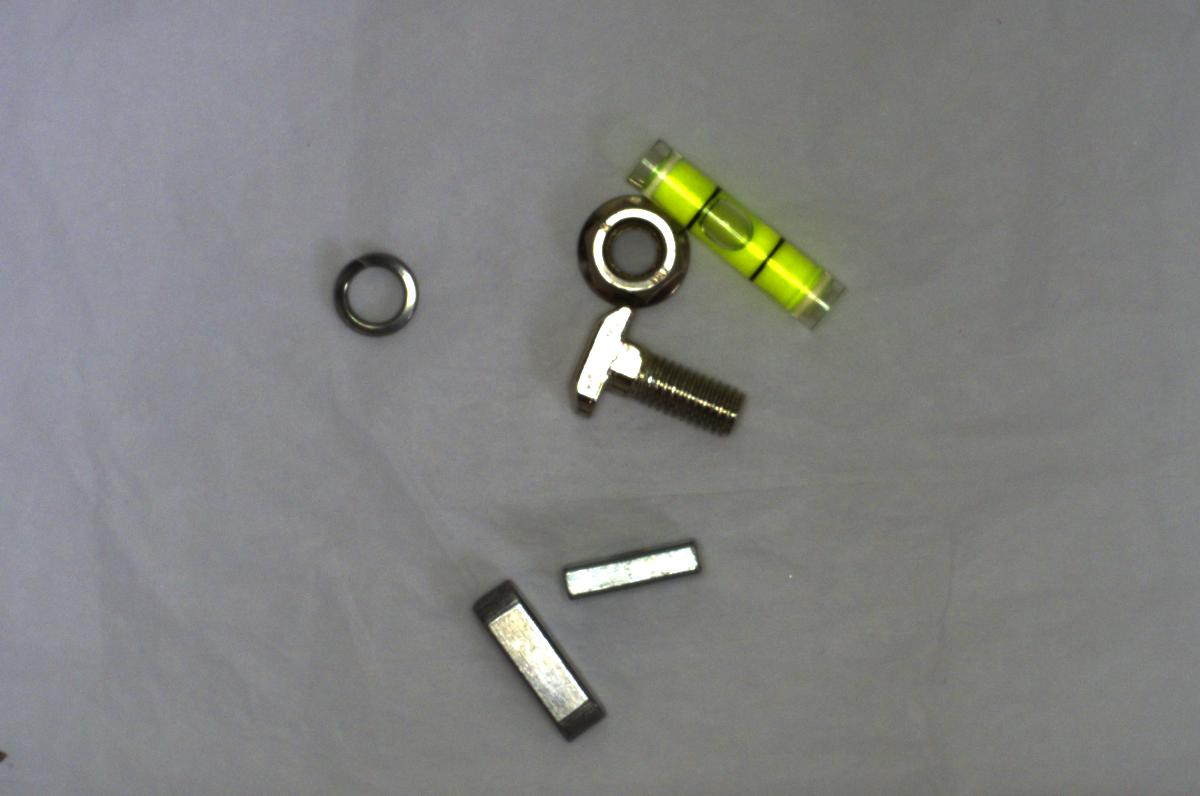Flange nut: (574, 189, 700, 312)
Horizontal bubble: (614, 127, 850, 329)
Keybar: (471, 578, 610, 741)
Rectangular nut: (557, 527, 710, 602)
Spring washer: (322, 238, 422, 342)
T-shaped screw: (564, 308, 752, 442)
